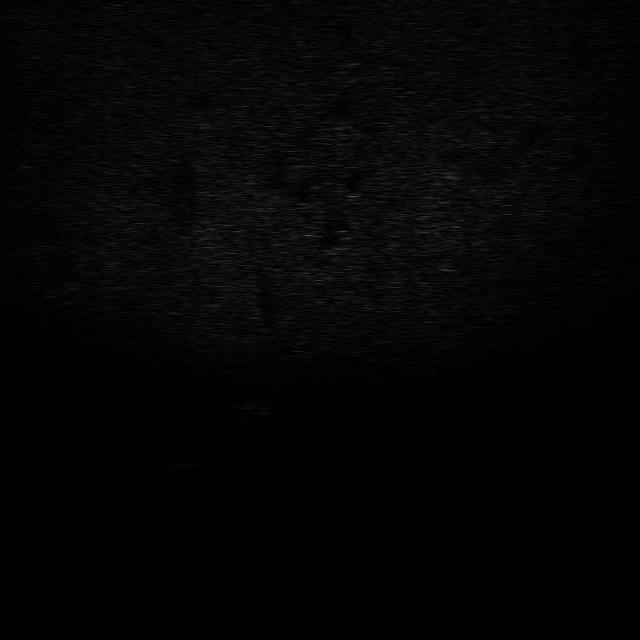ball: (234, 378, 282, 423)
human body: (241, 377, 284, 422)
